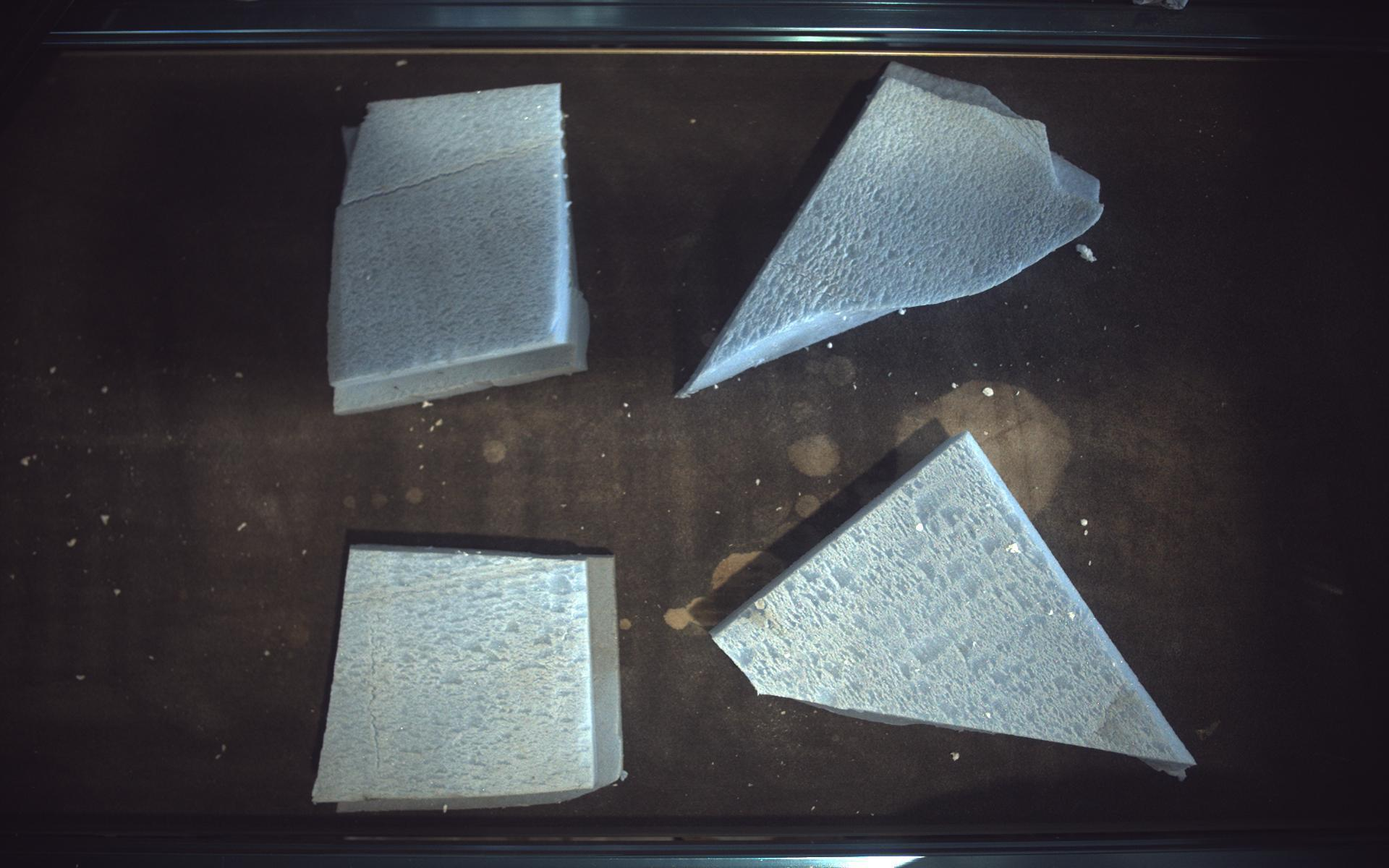foam: (712, 433, 1198, 780), (678, 61, 1105, 398), (328, 82, 590, 414), (313, 544, 626, 813)
